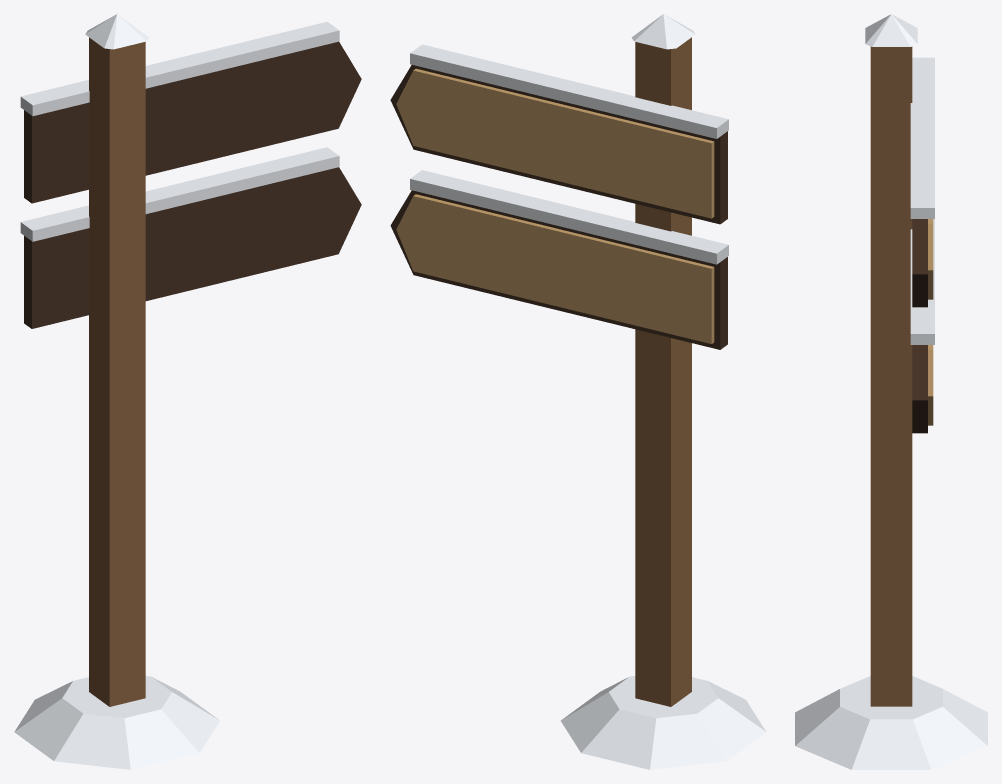
Rendered from signpost.glb.
The picture shows the model from 3 angles, left to right: view 1: azimuth 30°, elevation 25°; view 2: azimuth 150°, elevation 25°; view 3: azimuth 270°, elevation 25°; orthographic projection.
Parts seen in each view (by area): view 1: Post, BoardTop, BoardBottom; view 2: Post, BoardBottom, BoardTop; view 3: Post, BoardTop, BoardBottom.
Boxes of the visible parts, left/top/right/bottom form: Post: left=14, top=14, right=219, bottom=769; BoardTop: left=20, top=21, right=361, bottom=203; BoardBottom: left=20, top=147, right=361, bottom=328; Post: left=561, top=14, right=766, bottom=769; BoardBottom: left=390, top=170, right=728, bottom=349; BoardTop: left=390, top=44, right=728, bottom=224; Post: left=795, top=14, right=987, bottom=769; BoardTop: left=910, top=57, right=934, bottom=307; BoardBottom: left=910, top=219, right=934, bottom=433.
Size of the model in its own units: 1.13 by 2.27 by 0.5543.
